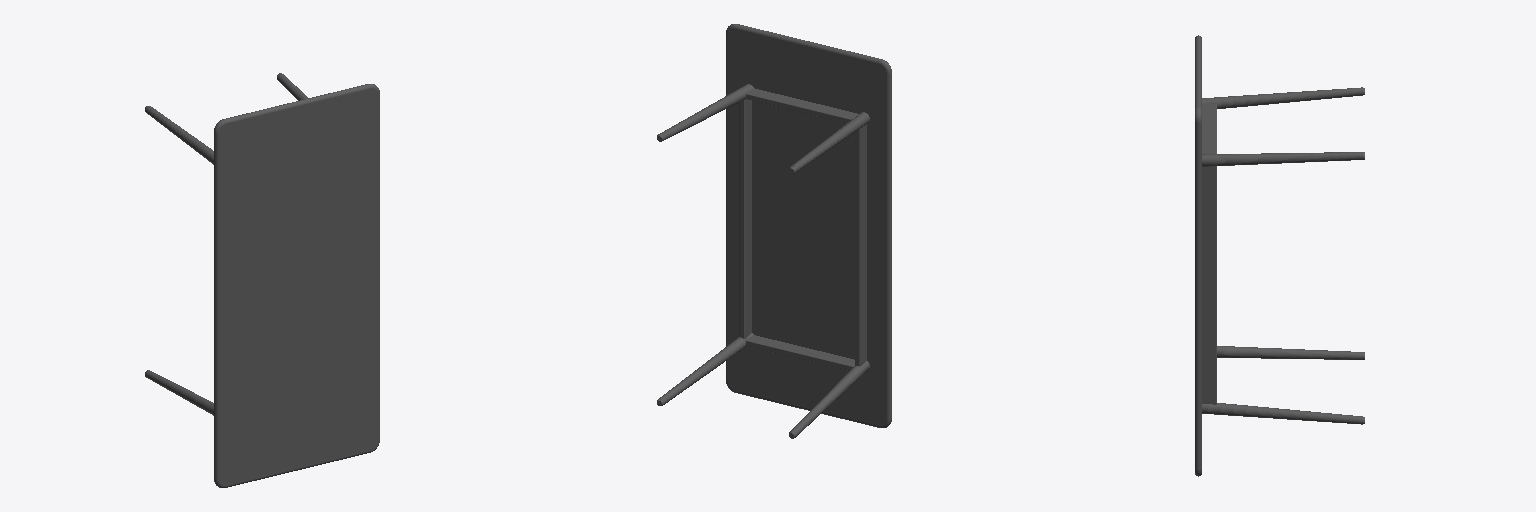
The model's file is table.obj.
The picture shows the model from 3 angles: view 1: azimuth 30°, elevation 25°; view 2: azimuth 150°, elevation 25°; view 3: azimuth 270°, elevation 25°; orthographic projection.
Parts seen in each view (by area): view 1: table_miss_holly_stolab; view 2: table_miss_holly_stolab; view 3: table_miss_holly_stolab.
Boxes of the visible parts, x1=… form: table_miss_holly_stolab: x1=145, y1=73, x2=379, y2=487; table_miss_holly_stolab: x1=657, y1=24, x2=891, y2=438; table_miss_holly_stolab: x1=1195, y1=35, x2=1364, y2=476.
Bounding box in the file's own units: 0.827 × 1.76 × 0.7417.